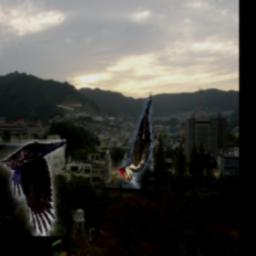Crow: (1, 139, 67, 236)
Woodpecker: (118, 89, 153, 190)
